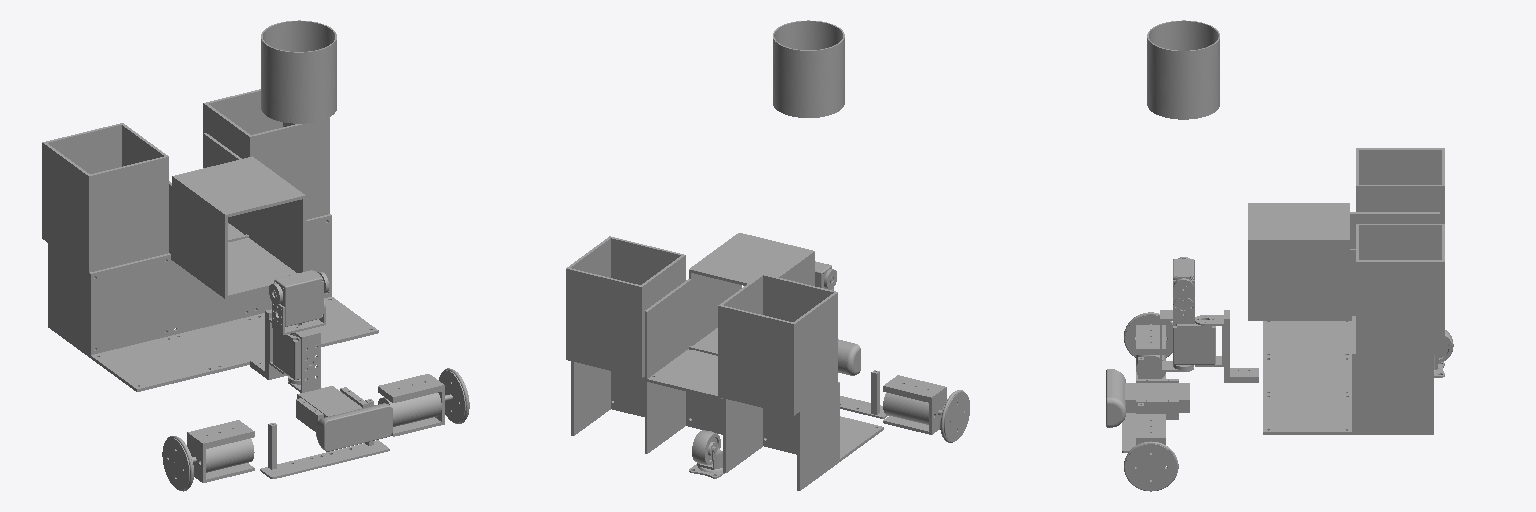
--- Render facts (derived) ---
Views: 3 orthographic renders of the robot side by side, from view 1: azimuth 30°, elevation 25°; view 2: azimuth 150°, elevation 25°; view 3: azimuth 270°, elevation 25°.
Model wheel_arm_robot_cp with 23 links and 22 joints (2 revolute, 3 continuous, 17 fixed), rooted at base_link, posed all joints at 0.
Links seen in each view (by area): view 1: box_link3, box_link2, prop_link3, box_link1, fancase_link, prop_link2, sholder_link, prop_link1, camera_link, right_motor_link, left_motor_link, sholder_base_link (+4 smaller); view 2: box_link3, box_link1, box_link2, fancase_link, right_motor_link, prop_link2, castor_link, prop_link3, right_wheel_link, camera_link; view 3: box_link1, box_link2, fancase_link, box_link3, prop_link1, prop_link2, prop_link3, sholder_base_link, camera_link, left_wheel_link, sholder_link, right_motor_link (+3 smaller).
Boxes of the visible links, box(x1,y1,x2,y2) form: box_link3: box(42, 123, 168, 356); box_link2: box(169, 133, 305, 298); prop_link3: box(89, 253, 217, 391); box_link1: box(203, 89, 329, 309); fancase_link: box(261, 20, 336, 123); prop_link2: box(171, 234, 264, 372); sholder_link: box(269, 270, 328, 392); prop_link1: box(252, 214, 378, 346); camera_link: box(297, 386, 392, 451); right_motor_link: box(174, 420, 254, 482); left_motor_link: box(378, 374, 452, 436); sholder_base_link: box(250, 309, 312, 384); box_link3: box(718, 274, 837, 490); box_link1: box(566, 236, 685, 453); box_link2: box(645, 233, 814, 399); fancase_link: box(773, 20, 844, 117); right_motor_link: box(883, 375, 958, 434); prop_link2: box(686, 346, 722, 434); castor_link: box(689, 430, 724, 478); prop_link3: box(838, 382, 883, 462); right_wheel_link: box(940, 390, 969, 442); camera_link: box(838, 339, 860, 375); box_link1: box(1356, 224, 1444, 434); box_link2: box(1248, 203, 1439, 320); fancase_link: box(1147, 20, 1219, 119); box_link3: box(1356, 148, 1444, 223); prop_link1: box(1263, 316, 1355, 434); prop_link2: box(1263, 357, 1351, 393); prop_link3: box(1263, 321, 1351, 356); sholder_base_link: box(1173, 310, 1258, 382); camera_link: box(1106, 369, 1189, 427); left_wheel_link: box(1124, 441, 1178, 491); sholder_link: box(1160, 257, 1194, 371); right_motor_link: box(1136, 325, 1165, 378).
Bounding box of the posed robot: 0.289 × 0.3225 × 0.4007 m (x, y, z).
Meshes: 22 distinct files referenced, 20 mesh visuals loaded (20 binary STL); not drawn: 2 (reference not matched to a file when rendering).

URDF robot description (wheel_arm_robot_cp):
<?xml version="1.0" ?>
<!-- =================================================================================== -->
<!-- |    This document was autogenerated by xacro from [local-path]/ros2_ws/src/wheel_arm_robot_cp_description/urdf/wheel_arm_robot_cp.xacro | -->
<!-- |    EDITING THIS FILE BY HAND IS NOT RECOMMENDED                                 | -->
<!-- =================================================================================== -->
<robot name="wheel_arm_robot_cp">
  <material name="silver">
    <color rgba="0.700 0.700 0.700 1.000"/>
  </material>
  
  <transmission name="left_wheel_joint_tran">
    <type>transmission_interface/SimpleTransmission</type>
    <joint name="left_wheel_joint">
      <hardwareInterface>hardware_interface/EffortJointInterface</hardwareInterface>
    </joint>
    <actuator name="left_wheel_joint_actr">
      <hardwareInterface>hardware_interface/EffortJointInterface</hardwareInterface>
      <mechanicalReduction>1</mechanicalReduction>
    </actuator>
  </transmission>
  <transmission name="right_wheel_joint_tran">
    <type>transmission_interface/SimpleTransmission</type>
    <joint name="right_wheel_joint">
      <hardwareInterface>hardware_interface/EffortJointInterface</hardwareInterface>
    </joint>
    <actuator name="right_wheel_joint_actr">
      <hardwareInterface>hardware_interface/EffortJointInterface</hardwareInterface>
      <mechanicalReduction>1</mechanicalReduction>
    </actuator>
  </transmission>
  <transmission name="sholder_joint_tran">
    <type>transmission_interface/SimpleTransmission</type>
    <joint name="sholder_joint">
      <hardwareInterface>hardware_interface/EffortJointInterface</hardwareInterface>
    </joint>
    <actuator name="sholder_joint_actr">
      <hardwareInterface>hardware_interface/EffortJointInterface</hardwareInterface>
      <mechanicalReduction>1</mechanicalReduction>
    </actuator>
  </transmission>
  <transmission name="elbow_joint_tran">
    <type>transmission_interface/SimpleTransmission</type>
    <joint name="elbow_joint">
      <hardwareInterface>hardware_interface/EffortJointInterface</hardwareInterface>
    </joint>
    <actuator name="elbow_joint_actr">
      <hardwareInterface>hardware_interface/EffortJointInterface</hardwareInterface>
      <mechanicalReduction>1</mechanicalReduction>
    </actuator>
  </transmission>
  <transmission name="fan_joint_tran">
    <type>transmission_interface/SimpleTransmission</type>
    <joint name="fan_joint">
      <hardwareInterface>hardware_interface/EffortJointInterface</hardwareInterface>
    </joint>
    <actuator name="fan_joint_actr">
      <hardwareInterface>hardware_interface/EffortJointInterface</hardwareInterface>
      <mechanicalReduction>1</mechanicalReduction>
    </actuator>
  </transmission>
  
  <gazebo reference="body_link">
    <material>Gazebo/Silver</material>
    <mu1>0.2</mu1>
    <mu2>0.2</mu2>
    <selfCollide>true</selfCollide>
    <gravity>true</gravity>
  </gazebo>
  <gazebo reference="prop_link1">
    <material>Gazebo/Silver</material>
    <mu1>0.2</mu1>
    <mu2>0.2</mu2>
    <selfCollide>true</selfCollide>
  </gazebo>
  <gazebo reference="prop_link2">
    <material>Gazebo/Silver</material>
    <mu1>0.2</mu1>
    <mu2>0.2</mu2>
    <selfCollide>true</selfCollide>
  </gazebo>
  <gazebo reference="prop_link3">
    <material>Gazebo/Silver</material>
    <mu1>0.2</mu1>
    <mu2>0.2</mu2>
    <selfCollide>true</selfCollide>
  </gazebo>
  <gazebo reference="box_link1">
    <material>Gazebo/Silver</material>
    <mu1>0.2</mu1>
    <mu2>0.2</mu2>
    <selfCollide>true</selfCollide>
  </gazebo>
  <gazebo reference="box_link2">
    <material>Gazebo/Silver</material>
    <mu1>0.2</mu1>
    <mu2>0.2</mu2>
    <selfCollide>true</selfCollide>
  </gazebo>
  <gazebo reference="box_link3">
    <material>Gazebo/Silver</material>
    <mu1>0.2</mu1>
    <mu2>0.2</mu2>
    <selfCollide>true</selfCollide>
  </gazebo>
  <gazebo reference="castor_link">
    <material>Gazebo/Silver</material>
    <mu1>0.2</mu1>
    <mu2>0.2</mu2>
    <selfCollide>true</selfCollide>
  </gazebo>
  <gazebo reference="right_motor_link">
    <material>Gazebo/Silver</material>
    <mu1>0.2</mu1>
    <mu2>0.2</mu2>
    <selfCollide>true</selfCollide>
  </gazebo>
  <gazebo reference="left_motor_link">
    <material>Gazebo/Silver</material>
    <mu1>0.2</mu1>
    <mu2>0.2</mu2>
    <selfCollide>true</selfCollide>
  </gazebo>
  <gazebo reference="left_wheel_link">
    <material>Gazebo/Silver</material>
    <mu1>0.2</mu1>
    <mu2>0.2</mu2>
    <selfCollide>true</selfCollide>
  </gazebo>
  <gazebo reference="right_wheel_link">
    <material>Gazebo/Silver</material>
    <mu1>0.2</mu1>
    <mu2>0.2</mu2>
    <selfCollide>true</selfCollide>
  </gazebo>
  <gazebo reference="sholder_base_link">
    <material>Gazebo/Silver</material>
    <mu1>0.2</mu1>
    <mu2>0.2</mu2>
    <selfCollide>true</selfCollide>
  </gazebo>
  <gazebo reference="sholder_link">
    <material>Gazebo/Silver</material>
    <mu1>0.2</mu1>
    <mu2>0.2</mu2>
    <selfCollide>true</selfCollide>
  </gazebo>
  <gazebo reference="elbow_link">
    <material>Gazebo/Silver</material>
    <mu1>0.2</mu1>
    <mu2>0.2</mu2>
    <selfCollide>true</selfCollide>
  </gazebo>
  <gazebo reference="fancase_link">
    <material>Gazebo/Silver</material>
    <mu1>0.2</mu1>
    <mu2>0.2</mu2>
    <selfCollide>true</selfCollide>
  </gazebo>
  <gazebo reference="fan_link">
    <material>Gazebo/Silver</material>
    <mu1>0.2</mu1>
    <mu2>0.2</mu2>
    <selfCollide>true</selfCollide>
  </gazebo>
  <gazebo reference="camera_stopper_link">
    <material>Gazebo/Silver</material>
    <mu1>0.2</mu1>
    <mu2>0.2</mu2>
    <selfCollide>true</selfCollide>
  </gazebo>
  <gazebo reference="camera_link">
    <material>Gazebo/Silver</material>
    <mu1>0.2</mu1>
    <mu2>0.2</mu2>
    <selfCollide>true</selfCollide>
  </gazebo>
  <gazebo reference="spacer_link1">
    <material>Gazebo/Silver</material>
    <mu1>0.2</mu1>
    <mu2>0.2</mu2>
    <selfCollide>true</selfCollide>
  </gazebo>
  <gazebo reference="spacer_link2">
    <material>Gazebo/Silver</material>
    <mu1>0.2</mu1>
    <mu2>0.2</mu2>
    <selfCollide>true</selfCollide>
  </gazebo>
  <gazebo reference="linetrace_link">
    <material>Gazebo/Silver</material>
    <mu1>0.2</mu1>
    <mu2>0.2</mu2>
    <selfCollide>true</selfCollide>
  </gazebo>

  <link name="base_link"/>

  <link name="body_link">
    <inertial>
      <origin rpy="0 0 0" xyz="0.2266215863538 0.12450533556599339 0.0015000000000000002"/>
      <mass value="0.21361792130545304"/>
      <inertia ixx="0.001103" ixy="0.0" ixz="0.0" iyy="0.001466" iyz="0.0" izz="0.002569"/>
    </inertial>
    <visual>
      <origin rpy="0 0 0" xyz="0 0 0"/>
      <geometry>
        <mesh filename="package://wheel_arm_robot_cp_description/meshes/base_link.stl" scale="0.001 0.001 0.001"/>
      </geometry>
      <material name="silver"/>
    </visual>
    <collision>
      <origin rpy="0 0 0" xyz="0 0 0"/>
      <geometry>
        <mesh filename="package://wheel_arm_robot_cp_description/meshes/base_link.stl" scale="0.001 0.001 0.001"/>
      </geometry>
    </collision>
  </link>
  <link name="prop_link1">
    <inertial>
      <origin rpy="0 0 0" xyz="0.058000000000000135 -0.03649999999999995 0.021496909109700167"/>
      <mass value="0.04116435399670614"/>
      <inertia ixx="5.2e-05" ixy="0.0" ixz="-1.8e-05" iyy="5.9e-05" iyz="0.0" izz="5.4e-05"/>
    </inertial>
    <visual>
      <origin rpy="0 0 0" xyz="-0.206 -0.078 -0.003"/>
      <geometry>
        <mesh filename="package://wheel_arm_robot_cp_description/meshes/prop1_1.stl" scale="0.001 0.001 0.001"/>
      </geometry>
      <material name="silver"/>
    </visual>
    <collision>
      <origin rpy="0 0 0" xyz="-0.206 -0.078 -0.003"/>
      <geometry>
        <mesh filename="package://wheel_arm_robot_cp_description/meshes/prop1_1.stl" scale="0.001 0.001 0.001"/>
      </geometry>
    </collision>
  </link>
  <link name="prop_link2">
    <inertial>
      <origin rpy="0 0 0" xyz="0.058000000000000024 -0.036499999999999935 0.02149690910970016"/>
      <mass value="0.04116435399670614"/>
      <inertia ixx="5.2e-05" ixy="0.0" ixz="-1.8e-05" iyy="5.9e-05" iyz="0.0" izz="5.4e-05"/>
    </inertial>
    <visual>
      <origin rpy="0 0 0" xyz="-0.206 -0.161 -0.003"/>
      <geometry>
        <mesh filename="package://wheel_arm_robot_cp_description/meshes/prop2_1.stl" scale="0.001 0.001 0.001"/>
      </geometry>
      <material name="silver"/>
    </visual>
    <collision>
      <origin rpy="0 0 0" xyz="-0.206 -0.161 -0.003"/>
      <geometry>
        <mesh filename="package://wheel_arm_robot_cp_description/meshes/prop2_1.stl" scale="0.001 0.001 0.001"/>
      </geometry>
    </collision>
  </link>
  <link name="prop_link3">
    <inertial>
      <origin rpy="0 0 0" xyz="0.058000000000000024 -0.036500000000000005 0.021496909109700132"/>
      <mass value="0.04116435399670614"/>
      <inertia ixx="5.2e-05" ixy="-0.0" ixz="-1.8e-05" iyy="5.9e-05" iyz="-0.0" izz="5.4e-05"/>
    </inertial>
    <visual>
      <origin rpy="0 0 0" xyz="-0.206 -0.244 -0.003"/>
      <geometry>
        <mesh filename="package://wheel_arm_robot_cp_description/meshes/prop3_1.stl" scale="0.001 0.001 0.001"/>
      </geometry>
      <material name="silver"/>
    </visual>
    <collision>
      <origin rpy="0 0 0" xyz="-0.206 -0.244 -0.003"/>
      <geometry>
        <mesh filename="package://wheel_arm_robot_cp_description/meshes/prop3_1.stl" scale="0.001 0.001 0.001"/>
      </geometry>
    </collision>
  </link>
  <link name="box_link1">
    <inertial>
      <origin rpy="0 0 0" xyz="0.03505371626851428 0.036499999999999914 0.018850192772906352"/>
      <mass value="0.14664217699835314"/>
      <inertia ixx="0.000538" ixy="-0.0" ixz="-5.2e-05" iyy="0.000512" iyz="-0.0" izz="0.000304"/>
    </inertial>
    <visual>
      <origin rpy="0 0 0" xyz="-0.287 -0.005 -0.081"/>
      <geometry>
        <mesh filename="package://wheel_arm_robot_cp_description/meshes/box1_1.stl" scale="0.001 0.001 0.001"/>
      </geometry>
      <material name="silver"/>
    </visual>
    <collision>
      <origin rpy="0 0 0" xyz="-0.287 -0.005 -0.081"/>
      <geometry>
        <mesh filename="package://wheel_arm_robot_cp_description/meshes/box1_1.stl" scale="0.001 0.001 0.001"/>
      </geometry>
    </collision>
  </link>
  <link name="box_link2">
    <inertial>
      <origin rpy="0 0 0" xyz="0.12305371626851441 -0.24550000000000008 0.015850192772906502"/>
      <mass value="0.14664217699835314"/>
      <inertia ixx="0.000538" ixy="-0.0" ixz="-5.2e-05" iyy="0.000512" iyz="-0.0" izz="0.000304"/>
    </inertial>
    <visual>
      <origin rpy="0 0 0" xyz="-0.199 -0.37 -0.084"/>
      <geometry>
        <mesh filename="package://wheel_arm_robot_cp_description/meshes/box2_1.stl" scale="0.001 0.001 0.001"/>
      </geometry>
      <material name="silver"/>
    </visual>
    <collision>
      <origin rpy="0 0 0" xyz="-0.199 -0.37 -0.084"/>
      <geometry>
        <mesh filename="package://wheel_arm_robot_cp_description/meshes/box2_1.stl" scale="0.001 0.001 0.001"/>
      </geometry>
    </collision>
  </link>
  <link name="box_link3">
    <inertial>
      <origin rpy="0 0 0" xyz="0.03505371626851439 0.036499999999999894 0.018850192772906504"/>
      <mass value="0.14664217699835314"/>
      <inertia ixx="0.000538" ixy="0.0" ixz="-5.2e-05" iyy="0.000512" iyz="-0.0" izz="0.000304"/>
    </inertial>
    <visual>
      <origin rpy="0 0 0" xyz="-0.287 -0.171 -0.081"/>
      <geometry>
        <mesh filename="package://wheel_arm_robot_cp_description/meshes/box3_1.stl" scale="0.001 0.001 0.001"/>
      </geometry>
      <material name="silver"/>
    </visual>
    <collision>
      <origin rpy="0 0 0" xyz="-0.287 -0.171 -0.081"/>
      <geometry>
        <mesh filename="package://wheel_arm_robot_cp_description/meshes/box3_1.stl" scale="0.001 0.001 0.001"/>
      </geometry>
    </collision>
  </link>
  <link name="castor_link">
    <inertial>
      <origin rpy="0 0 0" xyz="0.022804605599649808 -0.0120079263090625 -0.01943398048834586"/>
      <mass value="0.015218857629527545"/>
      <inertia ixx="3e-06" ixy="-0.0" ixz="1e-06" iyy="4e-06" iyz="0.0" izz="2e-06"/>
    </inertial>
    <visual>
      <origin rpy="0 0 0" xyz="-0.336 -0.1365 -0.0"/>
      <geometry>
        <mesh filename="package://wheel_arm_robot_cp_description/meshes/castor_1.stl" scale="0.001 0.001 0.001"/>
      </geometry>
      <material name="silver"/>
    </visual>
    <collision>
      <origin rpy="0 0 0" xyz="-0.336 -0.1365 -0.0"/>
      <geometry>
        <mesh filename="package://wheel_arm_robot_cp_description/meshes/castor_1.stl" scale="0.001 0.001 0.001"/>
      </geometry>
    </collision>
  </link>
  <link name="right_motor_link">
    <inertial>
      <origin rpy="0 0 0" xyz="-4.593547764386585e-15 -0.0009117214475100055 -0.019178247996409367"/>
      <mass value="0.046809503672651354"/>
      <inertia ixx="1.7e-05" ixy="0.0" ixz="-0.0" iyy="8e-06" iyz="0.0" izz="1.4e-05"/>
    </inertial>
    <visual>
      <origin rpy="0 0 0" xyz="-0.097 -0.224 -0.0"/>
      <geometry>
        <mesh filename="package://wheel_arm_robot_cp_description/meshes/motor_right_1.stl" scale="0.001 0.001 0.001"/>
      </geometry>
      <material name="silver"/>
    </visual>
    <collision>
      <origin rpy="0 0 0" xyz="-0.097 -0.224 -0.0"/>
      <geometry>
        <mesh filename="package://wheel_arm_robot_cp_description/meshes/motor_right_1.stl" scale="0.001 0.001 0.001"/>
      </geometry>
    </collision>
  </link>
  <link name="left_motor_link">
    <inertial>
      <origin rpy="0 0 0" xyz="4.468647674116255e-15 0.0009117214475100194 -0.019178247996409367"/>
      <mass value="0.046809503672651354"/>
      <inertia ixx="1.7e-05" ixy="0.0" ixz="0.0" iyy="8e-06" iyz="-0.0" izz="1.4e-05"/>
    </inertial>
    <visual>
      <origin rpy="0 0 0" xyz="-0.097 -0.025 -0.0"/>
      <geometry>
        <mesh filename="package://wheel_arm_robot_cp_description/meshes/motor_left_1.stl" scale="0.001 0.001 0.001"/>
      </geometry>
      <material name="silver"/>
    </visual>
    <collision>
      <origin rpy="0 0 0" xyz="-0.097 -0.025 -0.0"/>
      <geometry>
        <mesh filename="package://wheel_arm_robot_cp_description/meshes/motor_left_1.stl" scale="0.001 0.001 0.001"/>
      </geometry>
    </collision>
  </link>
  <link name="left_wheel_link">
    <inertial>
      <origin rpy="0 0 0" xyz="-1.3877787807814457e-17 0.002500000000000037 -4.0592529337857286e-15"/>
      <mass value="0.00940172683347289"/>
      <inertia ixx="1e-06" ixy="0.0" ixz="-0.0" iyy="3e-06" iyz="0.0" izz="1e-06"/>
    </inertial>
    <visual>
      <origin rpy="0 0 0" xyz="-0.097 0.02 0.021"/>
      <geometry>
        <mesh filename="package://wheel_arm_robot_cp_description/meshes/wheel_left_1.stl" scale="0.001 0.001 0.001"/>
      </geometry>
      <material name="silver"/>
    </visual>
    <collision>
      <origin rpy="0 0 0" xyz="-0.097 0.02 0.021"/>
      <geometry>
        <mesh filename="package://wheel_arm_robot_cp_description/meshes/wheel_left_1.stl" scale="0.001 0.001 0.001"/>
      </geometry>
    </collision>
  </link>
  <link name="right_wheel_link">
    <inertial>
      <origin rpy="0 0 0" xyz="-8.326672684688674e-17 -0.0024999999999999467 -4.0592529337857286e-15"/>
      <mass value="0.00940172683347289"/>
      <inertia ixx="1e-06" ixy="0.0" ixz="-0.0" iyy="3e-06" iyz="-0.0" izz="1e-06"/>
    </inertial>
    <visual>
      <origin rpy="0 0 0" xyz="-0.097 -0.269 0.021"/>
      <geometry>
        <mesh filename="package://wheel_arm_robot_cp_description/meshes/wheel_right_1.stl" scale="0.001 0.001 0.001"/>
      </geometry>
      <material name="silver"/>
    </visual>
    <collision>
      <origin rpy="0 0 0" xyz="-0.097 -0.269 0.021"/>
      <geometry>
        <mesh filename="package://wheel_arm_robot_cp_description/meshes/wheel_right_1.stl" scale="0.001 0.001 0.001"/>
      </geometry>
    </collision>
  </link>
  <link name="sholder_base_link">
    <inertial>
      <origin rpy="0 0 0" xyz="-0.041906371571871104 0.005003365266480611 0.035196602097605625"/>
      <mass value="0.04805535665511946"/>
      <inertia ixx="1.5e-05" ixy="0.0" ixz="5e-06" iyy="2.9e-05" iyz="-0.0" izz="1.8e-05"/>
    </inertial>
    <visual>
      <origin rpy="0 0 0" xyz="-0.188 -0.1195 -0.003"/>
      <geometry>
        <mesh filename="package://wheel_arm_robot_cp_description/meshes/sholder_base_1.stl" scale="0.001 0.001 0.001"/>
      </geometry>
      <material name="silver"/>
    </visual>
    <collision>
      <origin rpy="0 0 0" xyz="-0.188 -0.1195 -0.003"/>
      <geometry>
        <mesh filename="package://wheel_arm_robot_cp_description/meshes/sholder_base_1.stl" scale="0.001 0.001 0.001"/>
      </geometry>
    </collision>
  </link>
  <link name="sholder_link">
    <inertial>
      <origin rpy="0 0 0" xyz="-0.0013493219810096768 2.752666045706398e-05 0.07399861525014229"/>
      <mass value="0.11107447123195605"/>
      <inertia ixx="6.6e-05" ixy="-0.0" ixz="-7e-06" iyy="5.4e-05" iyz="0.0" izz="2.4e-05"/>
    </inertial>
    <visual>
      <origin rpy="0 0 0" xyz="-0.127268 -0.124505 -0.016"/>
      <geometry>
        <mesh filename="package://wheel_arm_robot_cp_description/meshes/sholder_link_1.stl" scale="0.001 0.001 0.001"/>
      </geometry>
      <material name="silver"/>
    </visual>
    <collision>
      <origin rpy="0 0 0" xyz="-0.127268 -0.124505 -0.016"/>
      <geometry>
        <mesh filename="package://wheel_arm_robot_cp_description/meshes/sholder_link_1.stl" scale="0.001 0.001 0.001"/>
      </geometry>
    </collision>
  </link>
  <link name="elbow_link">
    <inertial>
      <origin rpy="0 0 0" xyz="2.7652776224407205e-07 0.025499797788541737 0.0916830442463405"/>
      <mass value="0.10768771500759752"/>
      <inertia ixx="0.000377" ixy="0.0" ixz="0.0" iyy="0.000321" iyz="0.0" izz="6.4e-05"/>
    </inertial>
    <visual>
      <origin rpy="0 0 0" xyz="-0.127273 -0.099005 -0.106232"/>
      <geometry>
        <mesh filename="package://wheel_arm_robot_cp_description/meshes/elbow_link_1.stl" scale="0.001 0.001 0.001"/>
      </geometry>
      <material name="silver"/>
    </visual>
    <collision>
      <origin rpy="0 0 0" xyz="-0.127273 -0.099005 -0.106232"/>
      <geometry>
        <mesh filename="package://wheel_arm_robot_cp_description/meshes/elbow_link_1.stl" scale="0.001 0.001 0.001"/>
      </geometry>
    </collision>
  </link>
  <link name="fancase_link">
    <inertial>
      <origin rpy="0 0 0" xyz="2.765032424967284e-07 -2.0221145205501223e-07 0.026653856022685996"/>
      <mass value="0.029214118817680147"/>
      <inertia ixx="2.9e-05" ixy="0.0" ixz="0.0" iyy="2.9e-05" iyz="-0.0" izz="2.9e-05"/>
    </inertial>
    <visual>
      <origin rpy="0 0 0" xyz="-0.127273 -0.124505 -0.284232"/>
      <geometry>
        <mesh filename="package://wheel_arm_robot_cp_description/meshes/fancase_1.stl" scale="0.001 0.001 0.001"/>
      </geometry>
      <material name="silver"/>
    </visual>
    <collision>
      <origin rpy="0 0 0" xyz="-0.127273 -0.124505 -0.284232"/>
      <geometry>
        <mesh filename="package://wheel_arm_robot_cp_description/meshes/fancase_1.stl" scale="0.001 0.001 0.001"/>
      </geometry>
    </collision>
  </link>
  <link name="fan_link">
    <inertial>
      <origin rpy="0 0 0" xyz="2.7650324257999515e-07 -2.0221145213827896e-07 0.0044871539729533505"/>
      <mass value="0.019203927572863683"/>
      <inertia ixx="5e-06" ixy="0.0" ixz="0.0" iyy="5e-06" iyz="-0.0" izz="9e-06"/>
    </inertial>
    <visual>
      <origin rpy="0 0 0" xyz="-0.127273 -0.124505 -0.287232"/>
      <geometry>
        <mesh filename="package://wheel_arm_robot_cp_description/meshes/fan_1.stl" scale="0.001 0.001 0.001"/>
      </geometry>
      <material name="silver"/>
    </visual>
    <collision>
      <origin rpy="0 0 0" xyz="-0.127273 -0.124505 -0.287232"/>
      <geometry>
        <mesh filename="package://wheel_arm_robot_cp_description/meshes/fan_1.stl" scale="0.001 0.001 0.001"/>
      </geometry>
    </collision>
  </link>
  <link name="camera_stopper_link">
    <inertial>
      <origin rpy="0 0 0" xyz="0.009999999999999953 0.022999999999998272 -0.011771224542462044"/>
      <mass value="0.0132681554963914"/>
      <inertia ixx="6e-06" ixy="-0.0" ixz="0.0" iyy="2e-06" iyz="0.0" izz="7e-06"/>
    </inertial>
    <visual>
      <origin rpy="0 0 0" xyz="-0.093 -0.0815 -0.0"/>
      <geometry>
        <mesh filename="package://wheel_arm_robot_cp_description/meshes/camera_stopper_1.stl" scale="0.001 0.001 0.001"/>
      </geometry>
      <material name="silver"/>
    </visual>
    <collision>
      <origin rpy="0 0 0" xyz="-0.093 -0.0815 -0.0"/>
      <geometry>
        <mesh filename="package://wheel_arm_robot_cp_description/meshes/camera_stopper_1.stl" scale="0.001 0.001 0.001"/>
      </geometry>
    </collision>
  </link>
  <link name="camera_link">
    <inertial>
      <origin rpy="0 0 0" xyz="-0.020405484442451244 2.7755575615628914e-17 0.0069999999999999975"/>
      <mass value="0.06369938289373575"/>
      <inertia ixx="1.9e-05" ixy="0.0" ixz="0.0" iyy="3.8e-05" iyz="0.0" izz="5.2e-05"/>
    </inertial>
    <visual>
      <origin rpy="0 0 0" xyz="-0.103 -0.1045 0.015"/>
      <geometry>
        <mesh filename="package://wheel_arm_robot_cp_description/meshes/camera_v1_1.stl" scale="0.001 0.001 0.001"/>
      </geometry>
      <material name="silver"/>
    </visual>
    <collision>
      <origin rpy="0 0 0" xyz="-0.103 -0.1045 0.015"/>
      <geometry>
        <mesh filename="package://wheel_arm_robot_cp_description/meshes/camera_v1_1.stl" scale="0.001 0.001 0.001"/>
      </geometry>
    </collision>
  </link>
  <link name="spacer_link1">
    <inertial>
      <origin rpy="0 0 0" xyz="-1.2129186544029835e-14 2.7755575615628914e-17 -0.0215"/>
      <mass value="0.0014886724402471767"/>
      <inertia ixx="0.0" ixy="-0.0" ixz="-0.0" iyy="0.0" iyz="0.0" izz="0.0"/>
    </inertial>
    <visual>
      <origin rpy="0 0 0" xyz="-0.0875 -0.0745 -0.0"/>
      <geometry>
        <mesh filename="package://wheel_arm_robot_cp_description/meshes/spacer1_1.stl" scale="0.001 0.001 0.001"/>
      </geometry>
      <material name="silver"/>
    </visual>
    <collision>
      <origin rpy="0 0 0" xyz="-0.0875 -0.0745 -0.0"/>
      <geometry>
        <mesh filename="package://wheel_arm_robot_cp_description/meshes/spacer1_1.stl" scale="0.001 0.001 0.001"/>
      </geometry>
    </collision>
  </link>
  <link name="spacer_link2">
    <inertial>
      <origin rpy="0 0 0" xyz="-1.2184697695261093e-14 2.7755575615628914e-17 -0.0215"/>
      <mass value="0.0014886724402471767"/>
      <inertia ixx="0.0" ixy="-0.0" ixz="-0.0" iyy="0.0" iyz="0.0" izz="0.0"/>
    </inertial>
    <visual>
      <origin rpy="0 0 0" xyz="-0.0875 -0.1745 -0.0"/>
      <geometry>
        <mesh filename="package://wheel_arm_robot_cp_description/meshes/spacer2_1.stl" scale="0.001 0.001 0.001"/>
      </geometry>
      <material name="silver"/>
    </visual>
    <collision>
      <origin rpy="0 0 0" xyz="-0.0875 -0.1745 -0.0"/>
      <geometry>
        <mesh filename="package://wheel_arm_robot_cp_description/meshes/spacer2_1.stl" scale="0.001 0.001 0.001"/>
      </geometry>
    </collision>
  </link>
  <link name="linetrace_link">
    <inertial>
      <origin rpy="0 0 0" xyz="-0.006639441767623655 -0.04999999999999999 -0.0010000000000000217"/>
      <mass value="0.005248538060524059"/>
      <inertia ixx="7e-06" ixy="-0.0" ixz="0.0" iyy="0.0" iyz="0.0" izz="7e-06"/>
    </inertial>
    <visual>
      <origin rpy="0 0 0" xyz="-0.0875 -0.1745 0.043"/>
      <geometry>
        <mesh filename="package://wheel_arm_robot_cp_description/meshes/linetrace_1.stl" scale="0.001 0.001 0.001"/>
      </geometry>
      <material name="silver"/>
    </visual>
    <collision>
      <origin rpy="0 0 0" xyz="-0.0875 -0.1745 0.043"/>
      <geometry>
        <mesh filename="package://wheel_arm_robot_cp_description/meshes/linetrace_1.stl" scale="0.001 0.001 0.001"/>
      </geometry>
    </collision>
  </link>

  <joint name="body_joint" type="fixed">
    <origin xyz="-0.6 -0.8 0.4" rpy="0.0 0.0 1.5708"/>
    <parent link="base_link"/>
    <child link="body_link"/>
  </joint>

  <joint name="prop_joint1" type="fixed">
    <origin rpy="0 0 0" xyz="0.206 0.078 0.003"/>
    <parent link="body_link"/>
    <child link="prop_link1"/>
  </joint>

  <joint name="prop_joint2" type="fixed">
    <origin rpy="0 0 0" xyz="0.206 0.161 0.003"/>
    <parent link="body_link"/>
    <child link="prop_link2"/>
  </joint>
  
  <joint name="prop_joint3" type="fixed">
    <origin rpy="0 0 0" xyz="0.206 0.244 0.003"/>
    <parent link="body_link"/>
    <child link="prop_link3"/>
  </joint>
  
  <joint name="box_joint1" type="fixed">
    <origin rpy="0 0 0" xyz="0.081 -0.073 0.078"/>
    <parent link="prop_link1"/>
    <child link="box_link1"/>
  </joint>
  
  <joint name="box_joint2" type="fixed">
    <origin rpy="0 0 0" xyz="-0.007 0.209 0.081"/>
    <parent link="prop_link2"/>
    <child link="box_link2"/>
  </joint>
  
  <joint name="box_joint3" type="fixed">
    <origin rpy="0 0 0" xyz="0.081 -0.073 0.078"/>
    <parent link="prop_link3"/>
    <child link="box_link3"/>
  </joint>
  
  <joint name="castor_joint" type="fixed">
    <origin rpy="0 0 0" xyz="0.336 0.1365 0.0"/>
    <parent link="body_link"/>
    <child link="castor_link"/>
  </joint>
  
  <joint name="right_motor_joint" type="fixed">
    <origin rpy="0 0 0" xyz="0.097 0.224 0.0"/>
    <parent link="body_link"/>
    <child link="right_motor_link"/>
  </joint>
  <joint name="left_motor_joint" type="fixed">
    <origin rpy="0 0 0" xyz="0.097 0.025 0.0"/>
    <parent link="body_link"/>
    <child link="left_motor_link"/>
  </joint>
  <joint name="left_wheel_joint" type="continuous">
    <origin rpy="0 0 0" xyz="0.0 -0.045 -0.021"/>
    <parent link="left_motor_link"/>
    <child link="left_wheel_link"/>
    <axis xyz="-0.0 -1.0 -0.0"/>
  </joint>
  <joint name="right_wheel_joint" type="continuous">
    <origin rpy="0 0 0" xyz="0.0 0.045 -0.021"/>
    <parent link="right_motor_link"/>
    <child link="right_wheel_link"/>
    <axis xyz="1.0 0.0 0.0"/>
  </joint>
  
  <joint name="sholder_base_joint" type="fixed">
    <origin rpy="0 0 0" xyz="0.188 0.1195 0.003"/>
    <parent link="body_link"/>
    <child link="sholder_base_link"/>
  </joint>
  
  <joint name="sholder_joint" type="revolute">
    <origin rpy="0 0 0" xyz="-0.060732 0.005005 0.013"/>
    <parent link="sholder_base_link"/>
    <child link="sholder_link"/>
    <axis xyz="-0.0 -0.0 -1.0"/>
    <limit effort="100" lower="-1.047198" upper="1.047198" velocity="100"/>
  </joint>
  
  <joint name="elbow_joint" type="revolute">
    <origin rpy="0 0 0" xyz="5e-06 -0.0255 0.090232"/>
    <parent link="sholder_link"/>
    <child link="elbow_link"/>
    <axis xyz="0.0 -1.0 -0.0"/>
    <limit effort="100" lower="-0.872665" upper="2.181662" velocity="100"/>
  </joint>
  
  <joint name="fancase_joint" type="fixed">
    <origin rpy="0 0 0" xyz="0.0 0.0255 0.178"/>
    <parent link="elbow_link"/>
    <child link="fancase_link"/>
  </joint>
  
  <joint name="fan_joint" type="continuous">
    <origin rpy="0 0 0" xyz="0.0 0.0 0.003"/>
    <parent link="fancase_link"/>
    <child link="fan_link"/>
    <axis xyz="-0.0 -0.0 -1.0"/>
  </joint>
  
  <joint name="camera_stopper_joint" type="fixed">
    <origin rpy="0 0 0" xyz="0.093 0.0815 0.0"/>
    <parent link="body_link"/>
    <child link="camera_stopper_link"/>
  </joint>

  <joint name="camera_joint" type="fixed">
    <origin rpy="0 0 0" xyz="0.01 0.023 -0.015"/>
    <parent link="camera_stopper_link"/>
    <child link="camera_link"/>
  </joint>
  
  <joint name="spacer_joint1" type="fixed">
    <origin rpy="0 0 0" xyz="0.0875 0.0745 0.0"/>
    <parent link="body_link"/>
    <child link="spacer_link1"/>
  </joint>

  <joint name="spacer_joint2" type="fixed">
    <origin rpy="0 0 0" xyz="0.0875 0.1745 0.0"/>
    <parent link="body_link"/>
    <child link="spacer_link2"/>
  </joint>
  
  <joint name="spacer_joint3" type="fixed">
    <origin rpy="0 0 0" xyz="0.0 0.0 -0.043"/>
    <parent link="spacer_link2"/>
    <child link="linetrace_link"/>
  </joint>

  <gazebo>
    <plugin filename="libgazebo_ros2_control.so" name="gazebo_ros2_control">
      <robot_sim_type>gazebo_ros2_control/GazeboSystem</robot_sim_type>
      <parameters>[local-path]/ros2_ws/src/arm_detecting_controll/config/rdc_arm.yaml</parameters>
    </plugin>
  </gazebo>

  <gazebo>
    <plugin name="diff_drive" filename="libgazebo_ros_diff_drive.so ">
      <ros>
        <namespace>/wheel_robot_simple</namespace>
        <remapping>cmd_vel:=cmd_vel</remapping>
        <remapping>odom:=odom</remapping>
      </ros>
      <left_joint>left_wheel_joint</left_joint>
      <right_joint>right_wheel_joint</right_joint>
      <wheel_separation>0.289</wheel_separation>
      <wheel_diameter>0.072</wheel_diameter>
      <max_wheel_torque>20</max_wheel_torque>
      <max_wheel_acceleration>1.0</max_wheel_acceleration>
      <publish_odom>true</publish_odom>
      <publish_odom_tf>true</publish_odom_tf>
      <publish_wheel_tf>true</publish_wheel_tf>
      <update_rate>30</update_rate>
      <odometry_frame>odom</odometry_frame>
      <robot_base_frame>base_link</robot_base_frame>
    </plugin>
  </gazebo>

  <ros2_control name="GazeboSystem" type="system">
    <hardware>
      <plugin>gazebo_ros2_control/GazeboSystem</plugin>
    </hardware>
    <joint name="sholder_joint">
      <command_interface name="position">
        <param name="min">-3.14</param>
        <param name="max">3.14</param>
      </command_interface>
      <command_interface name="velocity">
        <param name="min">-3.15</param>
        <param name="max">3.15</param>
      </command_interface>
      <state_interface name="position"/>
      <state_interface name="velocity"/>
      <state_interface name="effort"/>
      <param name="initial_position">0.0</param>
    </joint>
    <joint name="elbow_joint">
      <command_interface name="position">
        <param name="min">-3.14</param>
        <param name="max">3.14</param>
      </command_interface>
      <command_interface name="velocity">
        <param name="min">-3.15</param>
        <param name="max">3.15</param>
      </command_interface>
      <state_interface name="position"/>
      <state_interface name="velocity"/>
      <state_interface name="effort"/>
      <param name="initial_position">0.0</param>
    </joint>
  </ros2_control>

  <gazebo reference="camera_link">
    <sensor name="camera_sensor" type="camera">
      <always_on>true</always_on>
      <update_rate>30.0</update_rate>
      <visualize>true</visualize>
      <camera>
        <horizontal_fov>0.9599</horizontal_fov>
        <image>
          <width>640</width>
          <height>480</height>
          <format>R8G8B8</format>
        </image>
        <clip>
          <near>0.1</near>
          <far>100</far>
        </clip>
      </camera>
      <plugin name="camera_controller" filename="libgazebo_ros_camera.so">
        <ros>
          <namespace>/wheel_robot_simple</namespace>
        </ros>
        <camera_name>camera</camera_name>
        <image_topic_name>image_raw</image_topic_name>
        <camera_info_topic_name>camera_info</camera_info_topic_name>
        <frame_name>camera_link</frame_name>
      </plugin>
    </sensor>
  </gazebo>

  <gazebo reference="fancase_link">
    <plugin name="vacuum_gripper" filename="libgazebo_ros_vacuum_gripper.so">
      <ros>
        <namespace>/vacuum_gripper</namespace>
      </ros>
      <link_name>fancase_link</link_name>
      <max_force>1000</max_force>
      <max_distance>200.0</max_distance>
    </plugin>
  </gazebo>


</robot>
